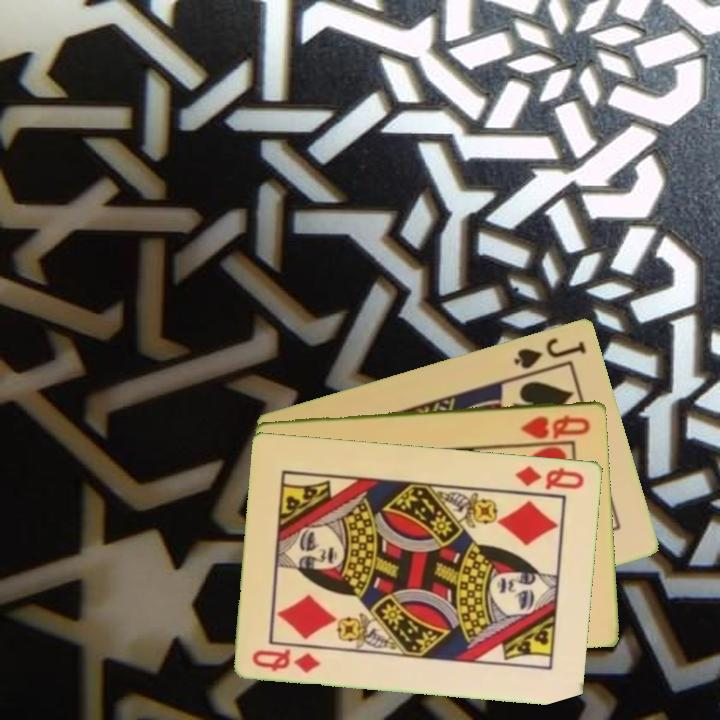Js: (510, 333, 590, 372)
Qd: (249, 645, 324, 676), (512, 462, 588, 492)
Qh: (518, 411, 594, 441)
